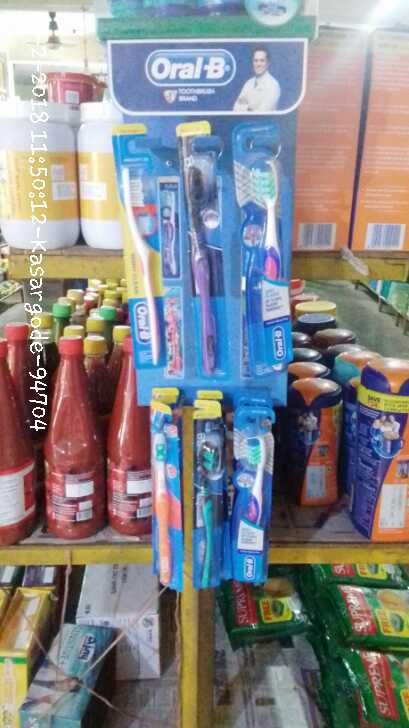oralb: (241, 143, 306, 380), (179, 150, 227, 380), (122, 160, 160, 385), (229, 423, 278, 587), (144, 427, 177, 589), (185, 436, 218, 589)
